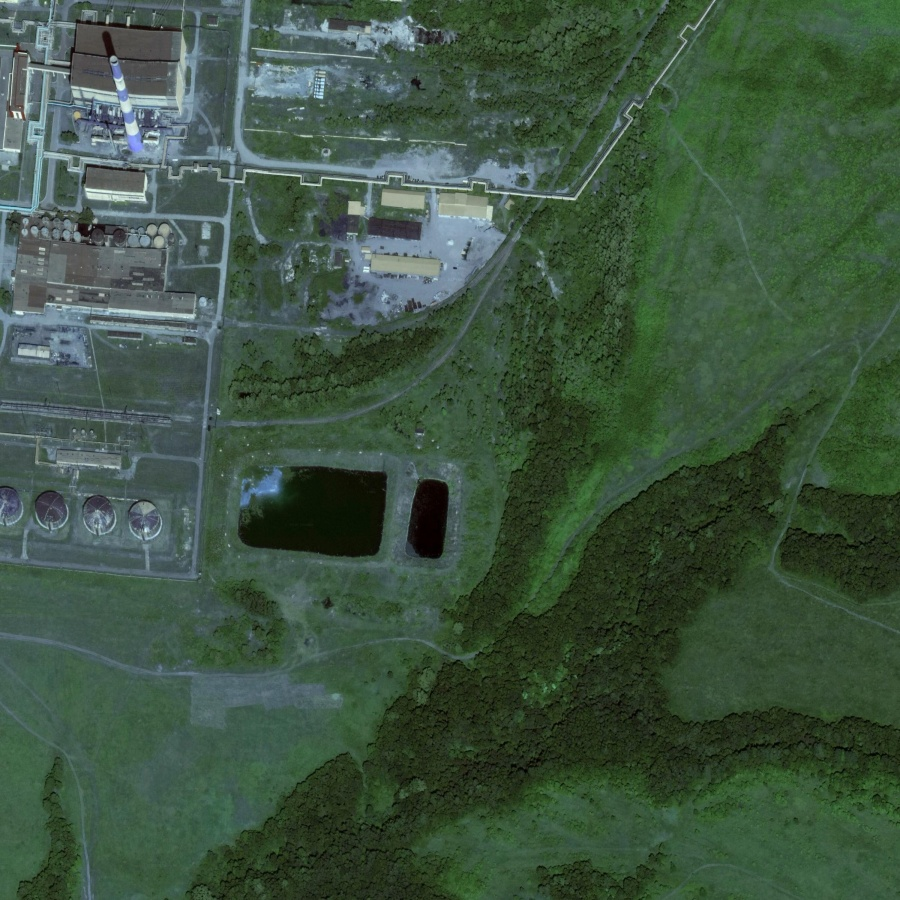PowerPlant: (228, 452, 462, 579)
